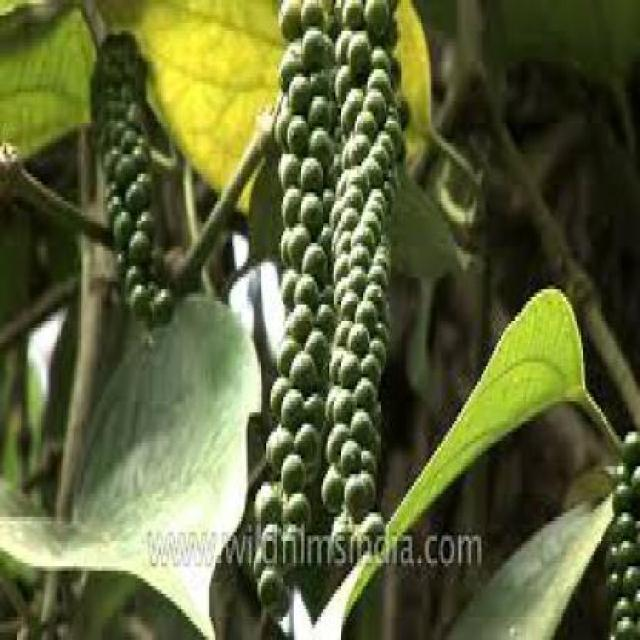UNRIPE: (323, 0, 389, 563), (262, 5, 323, 576), (99, 28, 170, 332), (602, 394, 639, 632)
